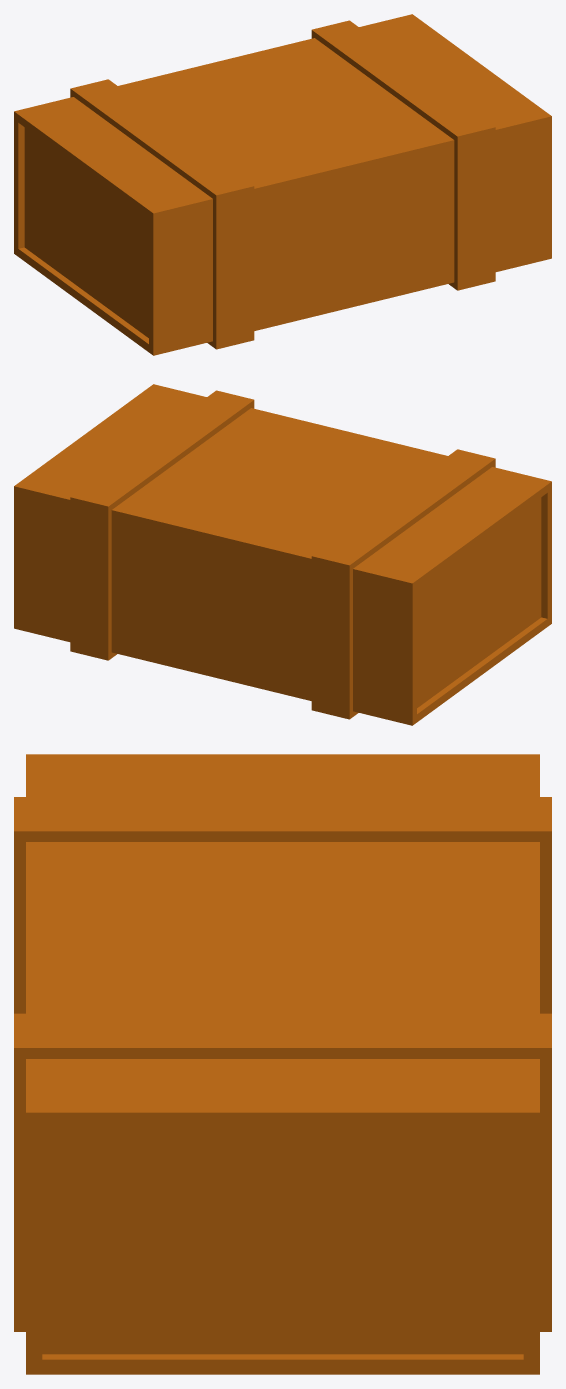
Rendered from Prop_Box_Wood_A.fbx.
3 views of the same model, one above another, from view 1: azimuth 30°, elevation 25°; view 2: azimuth 150°, elevation 25°; view 3: azimuth 270°, elevation 25° (orthographic). The views are drawn at different scales.
Visible parts, largest first — view 1: Prop_Box_Wood_A; view 2: Prop_Box_Wood_A; view 3: Prop_Box_Wood_A.
Boxes of the visible parts, bbox=[...] form: Prop_Box_Wood_A: bbox=[14, 14, 551, 355]; Prop_Box_Wood_A: bbox=[14, 384, 551, 725]; Prop_Box_Wood_A: bbox=[14, 754, 551, 1374].
Size of the model in its own units: 46.4 by 73.12 by 27.03.
